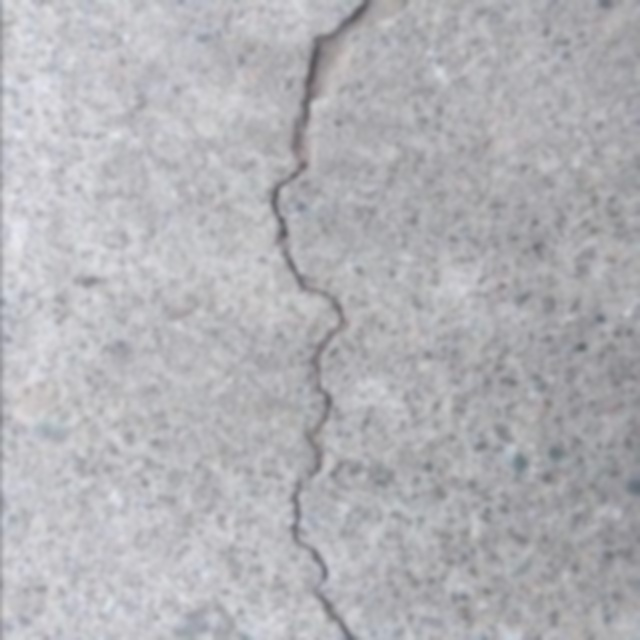SurfaceCrack: (250, 0, 412, 640)
